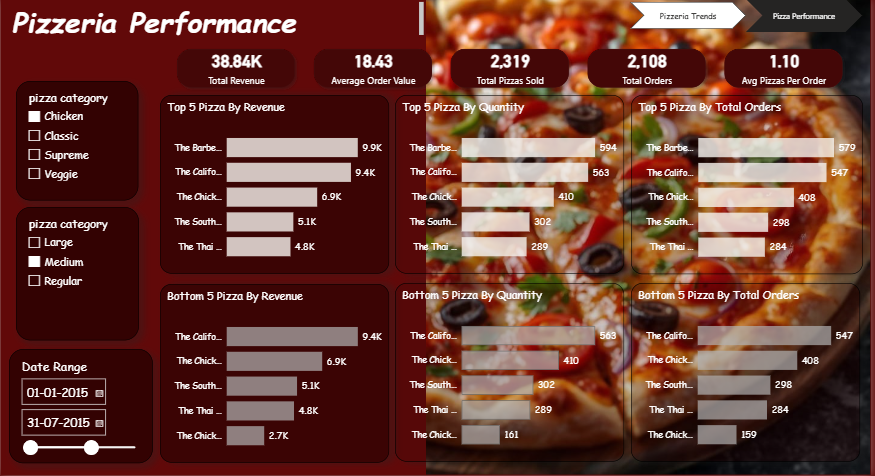

The page's visual inventory and layout, read from the dashboard file:
{"tool":"powerbi","page":{"name":"Pizza Performance","canvas":[1500,820],"ordinal":1},"visuals":[{"type":"image","box":[733.3,0,766.1,819.6],"z":0},{"type":"cardVisual","fields":{"Data":["pizza_sales.Total Revenue","pizza_sales.Average Order Value","pizza_sales.Total Pizzas Sold","pizza_sales.Total Orders","pizza_sales.Avg Pizzas Per Order"]},"box":[274.1,57.4,1207.4,125.9],"z":1000},{"type":"textbox","box":[13,0,720.4,72.2],"z":2000},{"type":"slicer","fields":{"Values":["pizza_sales.pizza_category"]},"box":[25.9,140.7,211.1,205.6],"z":3000},{"type":"slicer","fields":{"Values":["pizza_sales.pizza_size"]},"box":[25.9,359.3,211.7,230],"z":4000},{"type":"slicer","fields":{"Values":["pizza_sales.order_date"]},"box":[13,603.7,248.3,196.7],"z":5000},{"type":"barChart","title":"Top 5 Pizza By Revenue","fields":{"Category":["pizza_sales.pizza_name"],"Y":["pizza_sales.Total Revenue"]},"box":[274.1,164.8,395,308.3],"z":6000},{"type":"barChart","title":"Bottom 5 Pizza By Revenue","fields":{"Category":["pizza_sales.pizza_name"],"Y":["pizza_sales.Total Revenue"]},"box":[274.1,490.7,395,308.3],"z":7000},{"type":"barChart","title":"Top 5 Pizza By Quantity","fields":{"Category":["pizza_sales.pizza_name"],"Y":["pizza_sales.Total Pizzas Sold"]},"box":[679.6,164.8,395,308.3],"z":8000},{"type":"barChart","title":"Bottom 5 Pizza By Quantity","fields":{"Category":["pizza_sales.pizza_name"],"Y":["pizza_sales.Total Pizzas Sold"]},"box":[679.6,488.9,395,308.3],"z":9000},{"type":"barChart","title":"Bottom 5 Pizza By Total Orders","fields":{"Category":["pizza_sales.pizza_name"],"Y":["pizza_sales.Total Orders"]},"box":[1087,488.9,395,308.3],"z":10000},{"type":"barChart","title":"Top 5 Pizza By Total Orders","fields":{"Category":["pizza_sales.pizza_name"],"Y":["pizza_sales.Total Orders"]},"box":[1087,164.8,400,309.3],"z":11000},{"type":"pageNavigator","box":[1285.2,0,200,57.4],"z":12000},{"type":"pageNavigator","box":[1085.2,5.6,200,46.3],"z":13000}]}

Visuals, with their boxes in screenshot pixels (x1, y1, x2, y2), scaled from the page's 1500x820 canvas onto the 875x476 screenshot:
image: [428, 0, 874, 475]
cardVisual - pizza_sales.Total Revenue x pizza_sales.Average Order Value: [160, 33, 864, 106]
textbox: [8, 0, 428, 42]
slicer - pizza_sales.pizza_category: [15, 82, 138, 201]
slicer - pizza_sales.pizza_size: [15, 209, 139, 342]
slicer - pizza_sales.order_date: [8, 350, 152, 465]
"Top 5 Pizza By Revenue" barChart: [160, 96, 390, 275]
"Bottom 5 Pizza By Revenue" barChart: [160, 285, 390, 464]
"Top 5 Pizza By Quantity" barChart: [396, 96, 627, 275]
"Bottom 5 Pizza By Quantity" barChart: [396, 284, 627, 463]
"Bottom 5 Pizza By Total Orders" barChart: [634, 284, 864, 463]
"Top 5 Pizza By Total Orders" barChart: [634, 96, 867, 275]
pageNavigator: [750, 0, 866, 33]
pageNavigator: [633, 3, 750, 30]
